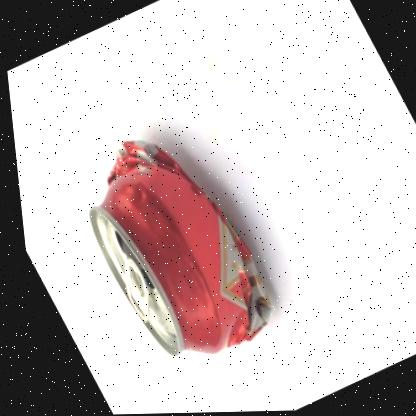Metal: (84, 142, 264, 356)
